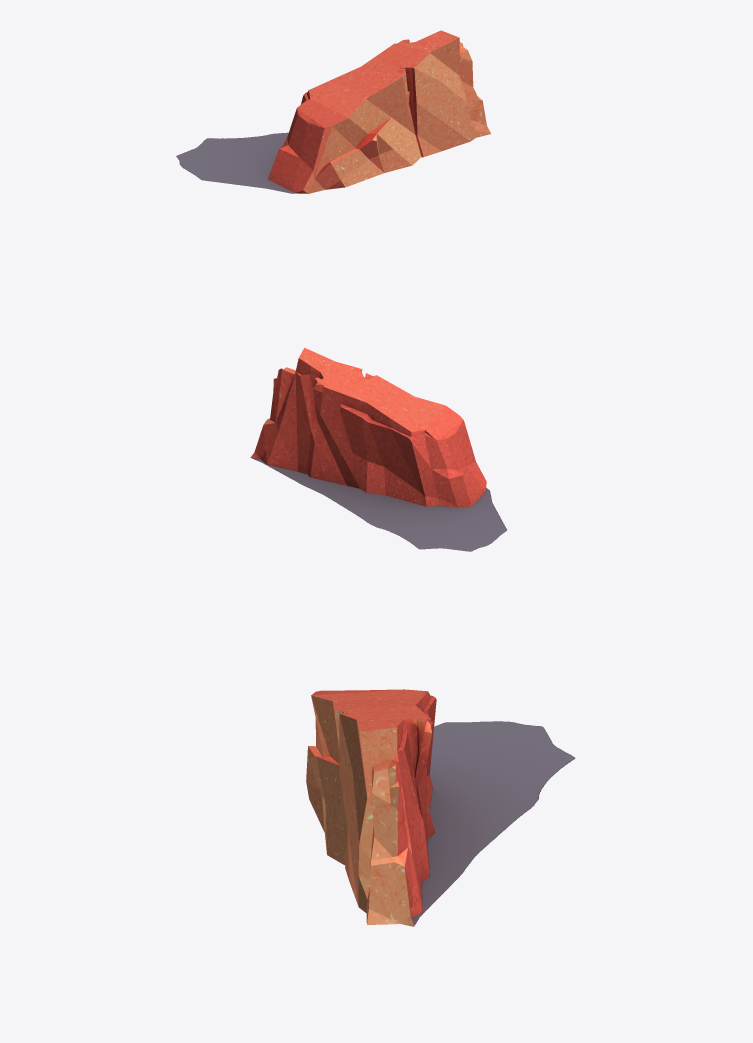
3 views of the same model, one above another, from view 1: azimuth 30°, elevation 25°; view 2: azimuth 150°, elevation 25°; view 3: azimuth 270°, elevation 25° (orthographic). The views are drawn at different scales.
Visible parts, largest first — view 1: Rock, Shadow; view 2: Rock, Shadow; view 3: Rock, Shadow.
Boxes of the visible parts, x1=… form: Rock: x1=268, y1=30, x2=490, y2=193; Shadow: x1=176, y1=132, x2=302, y2=193; Rock: x1=250, y1=347, x2=486, y2=507; Shadow: x1=252, y1=458, x2=506, y2=551; Rock: x1=306, y1=689, x2=436, y2=926; Shadow: x1=412, y1=721, x2=575, y2=925.
Size of the model in its own units: 16.05 by 3.3 by 12.99.
2 materials, 2 textured.
